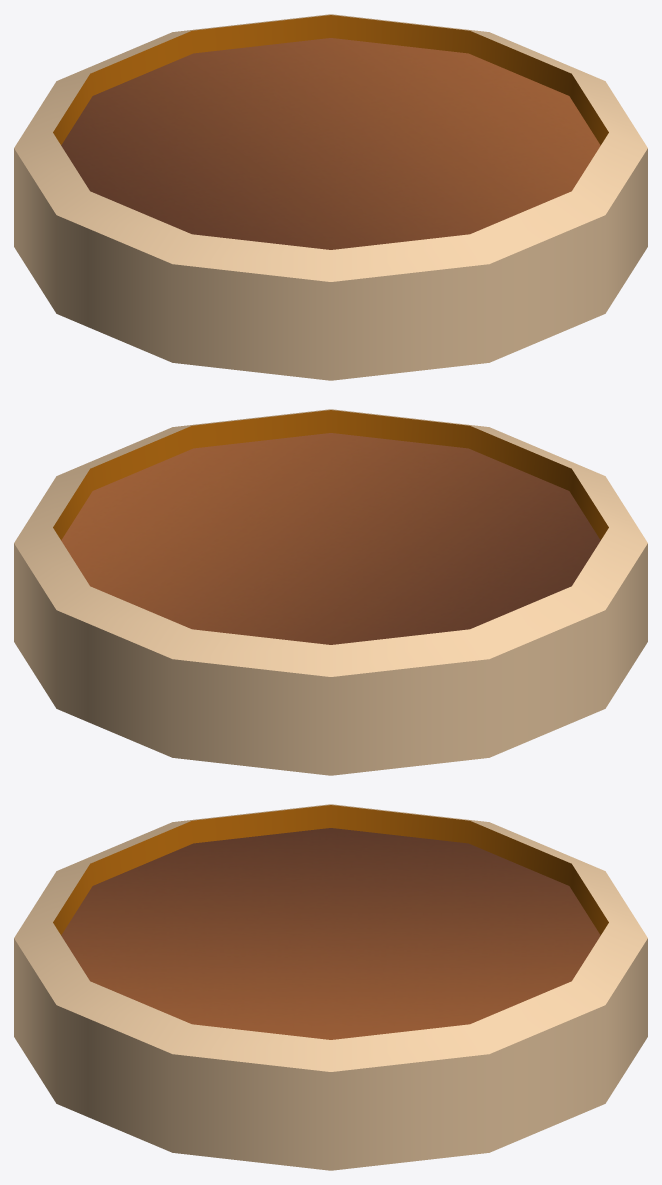
The picture shows the model from 3 angles, top to bottom: view 1: azimuth 30°, elevation 25°; view 2: azimuth 150°, elevation 25°; view 3: azimuth 270°, elevation 25°; orthographic projection.
Parts seen in each view (by area): view 1: diorama.019; view 2: diorama.019; view 3: diorama.019.
Part boxes in pixels (x1,y1,x2,y2): diorama.019: (14,14,647,380); diorama.019: (14,409,647,775); diorama.019: (14,804,647,1170).
Size of the model in its own units: 135 by 26.95 by 135.
